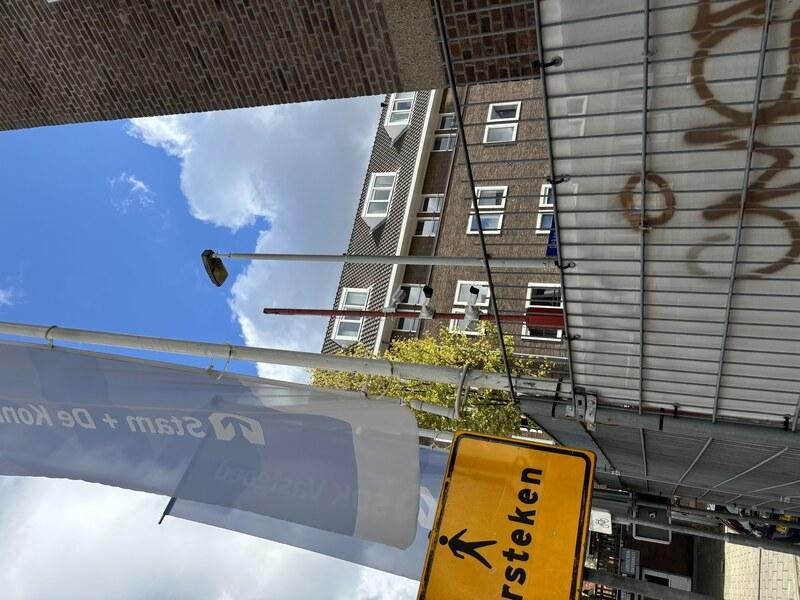bullet: (279, 411, 318, 441), (278, 382, 318, 408), (274, 463, 318, 481)
